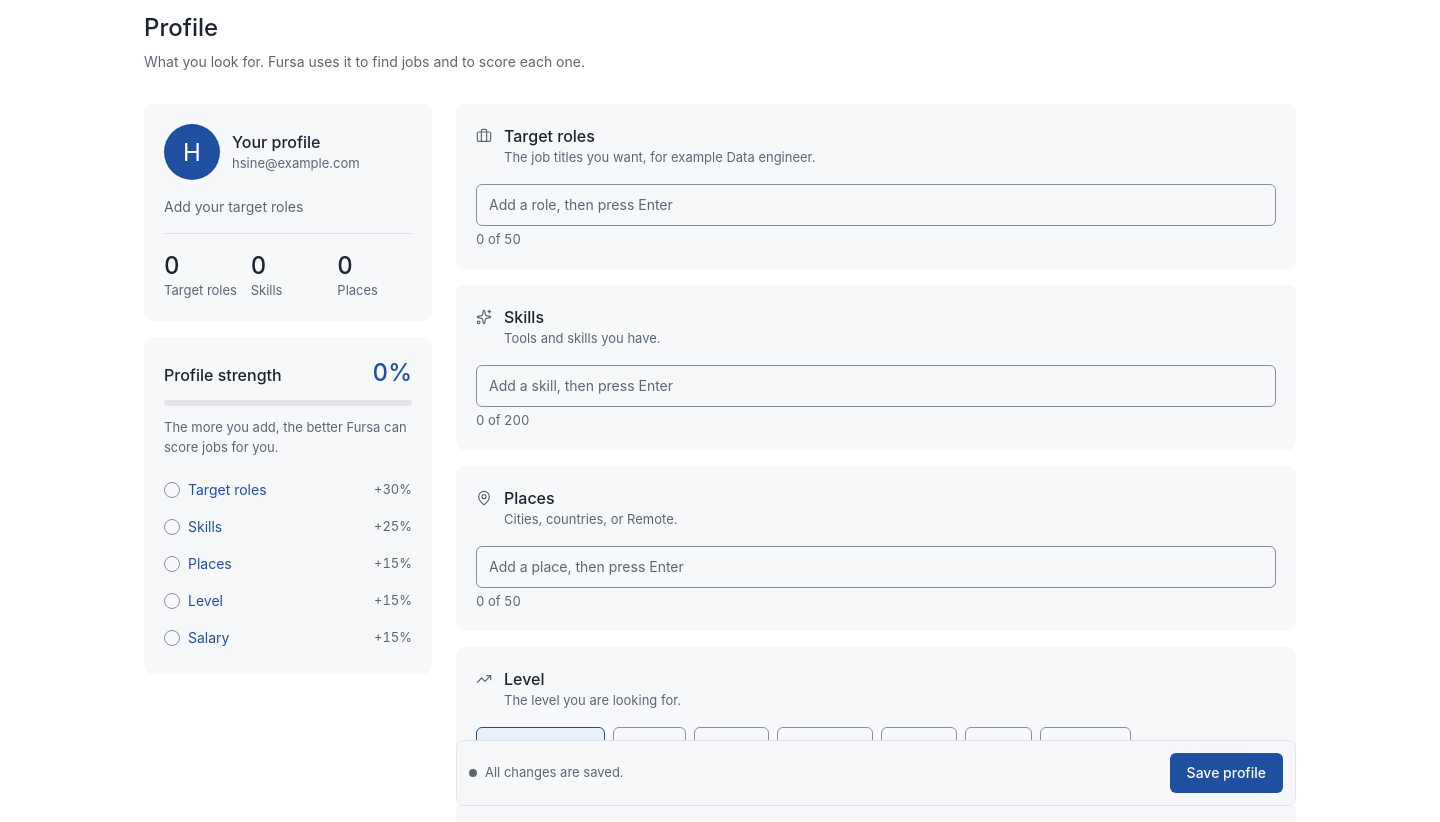
Scenario: profile page design › saves only what changed and goes back to saved
This screenshot has width=1440, height=822.
Type "Designer," into the field named "Target roles".
click(876, 205); type("Designer,")  # box top-left (481, 189), bottom-right (1271, 221)
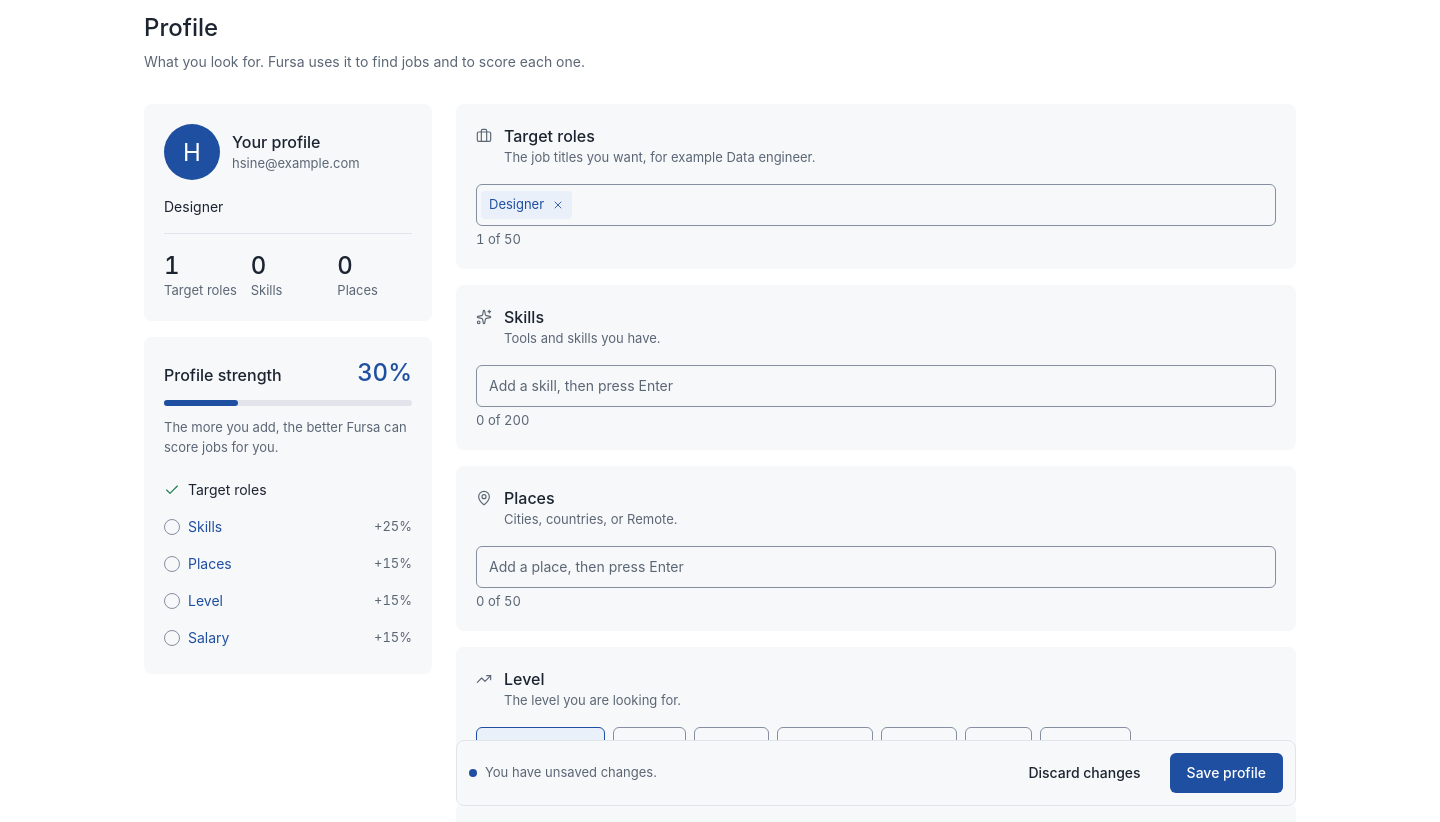
Click the button "Save profile".
click(1226, 773)  # box top-left (1170, 753), bottom-right (1283, 793)
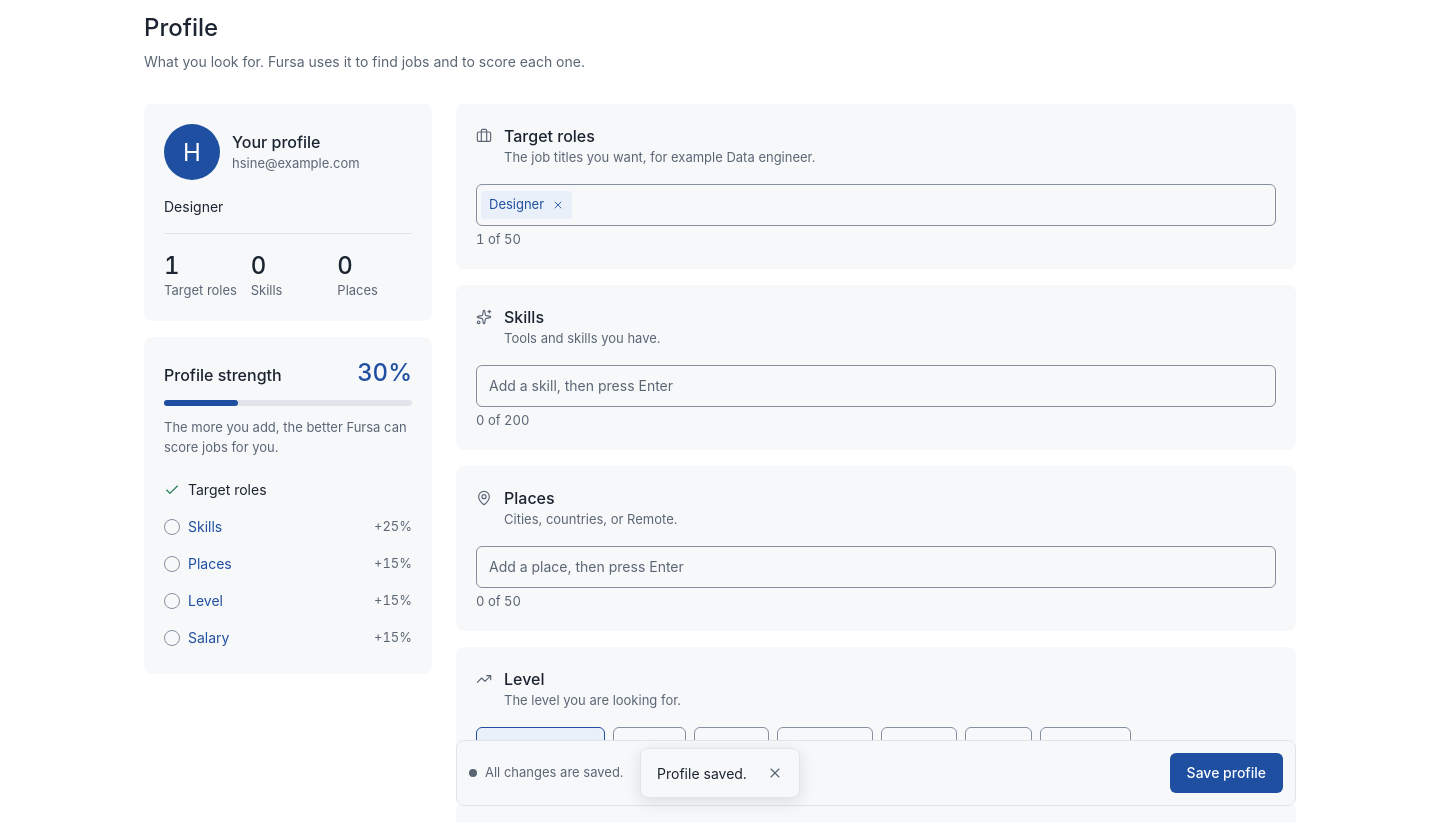
Check: the text "Profile saved." is shown, box top-left (657, 762), bottom-right (747, 784)
Check: the text "All changes are saved." is shown, box top-left (469, 764), bottom-right (624, 780)
